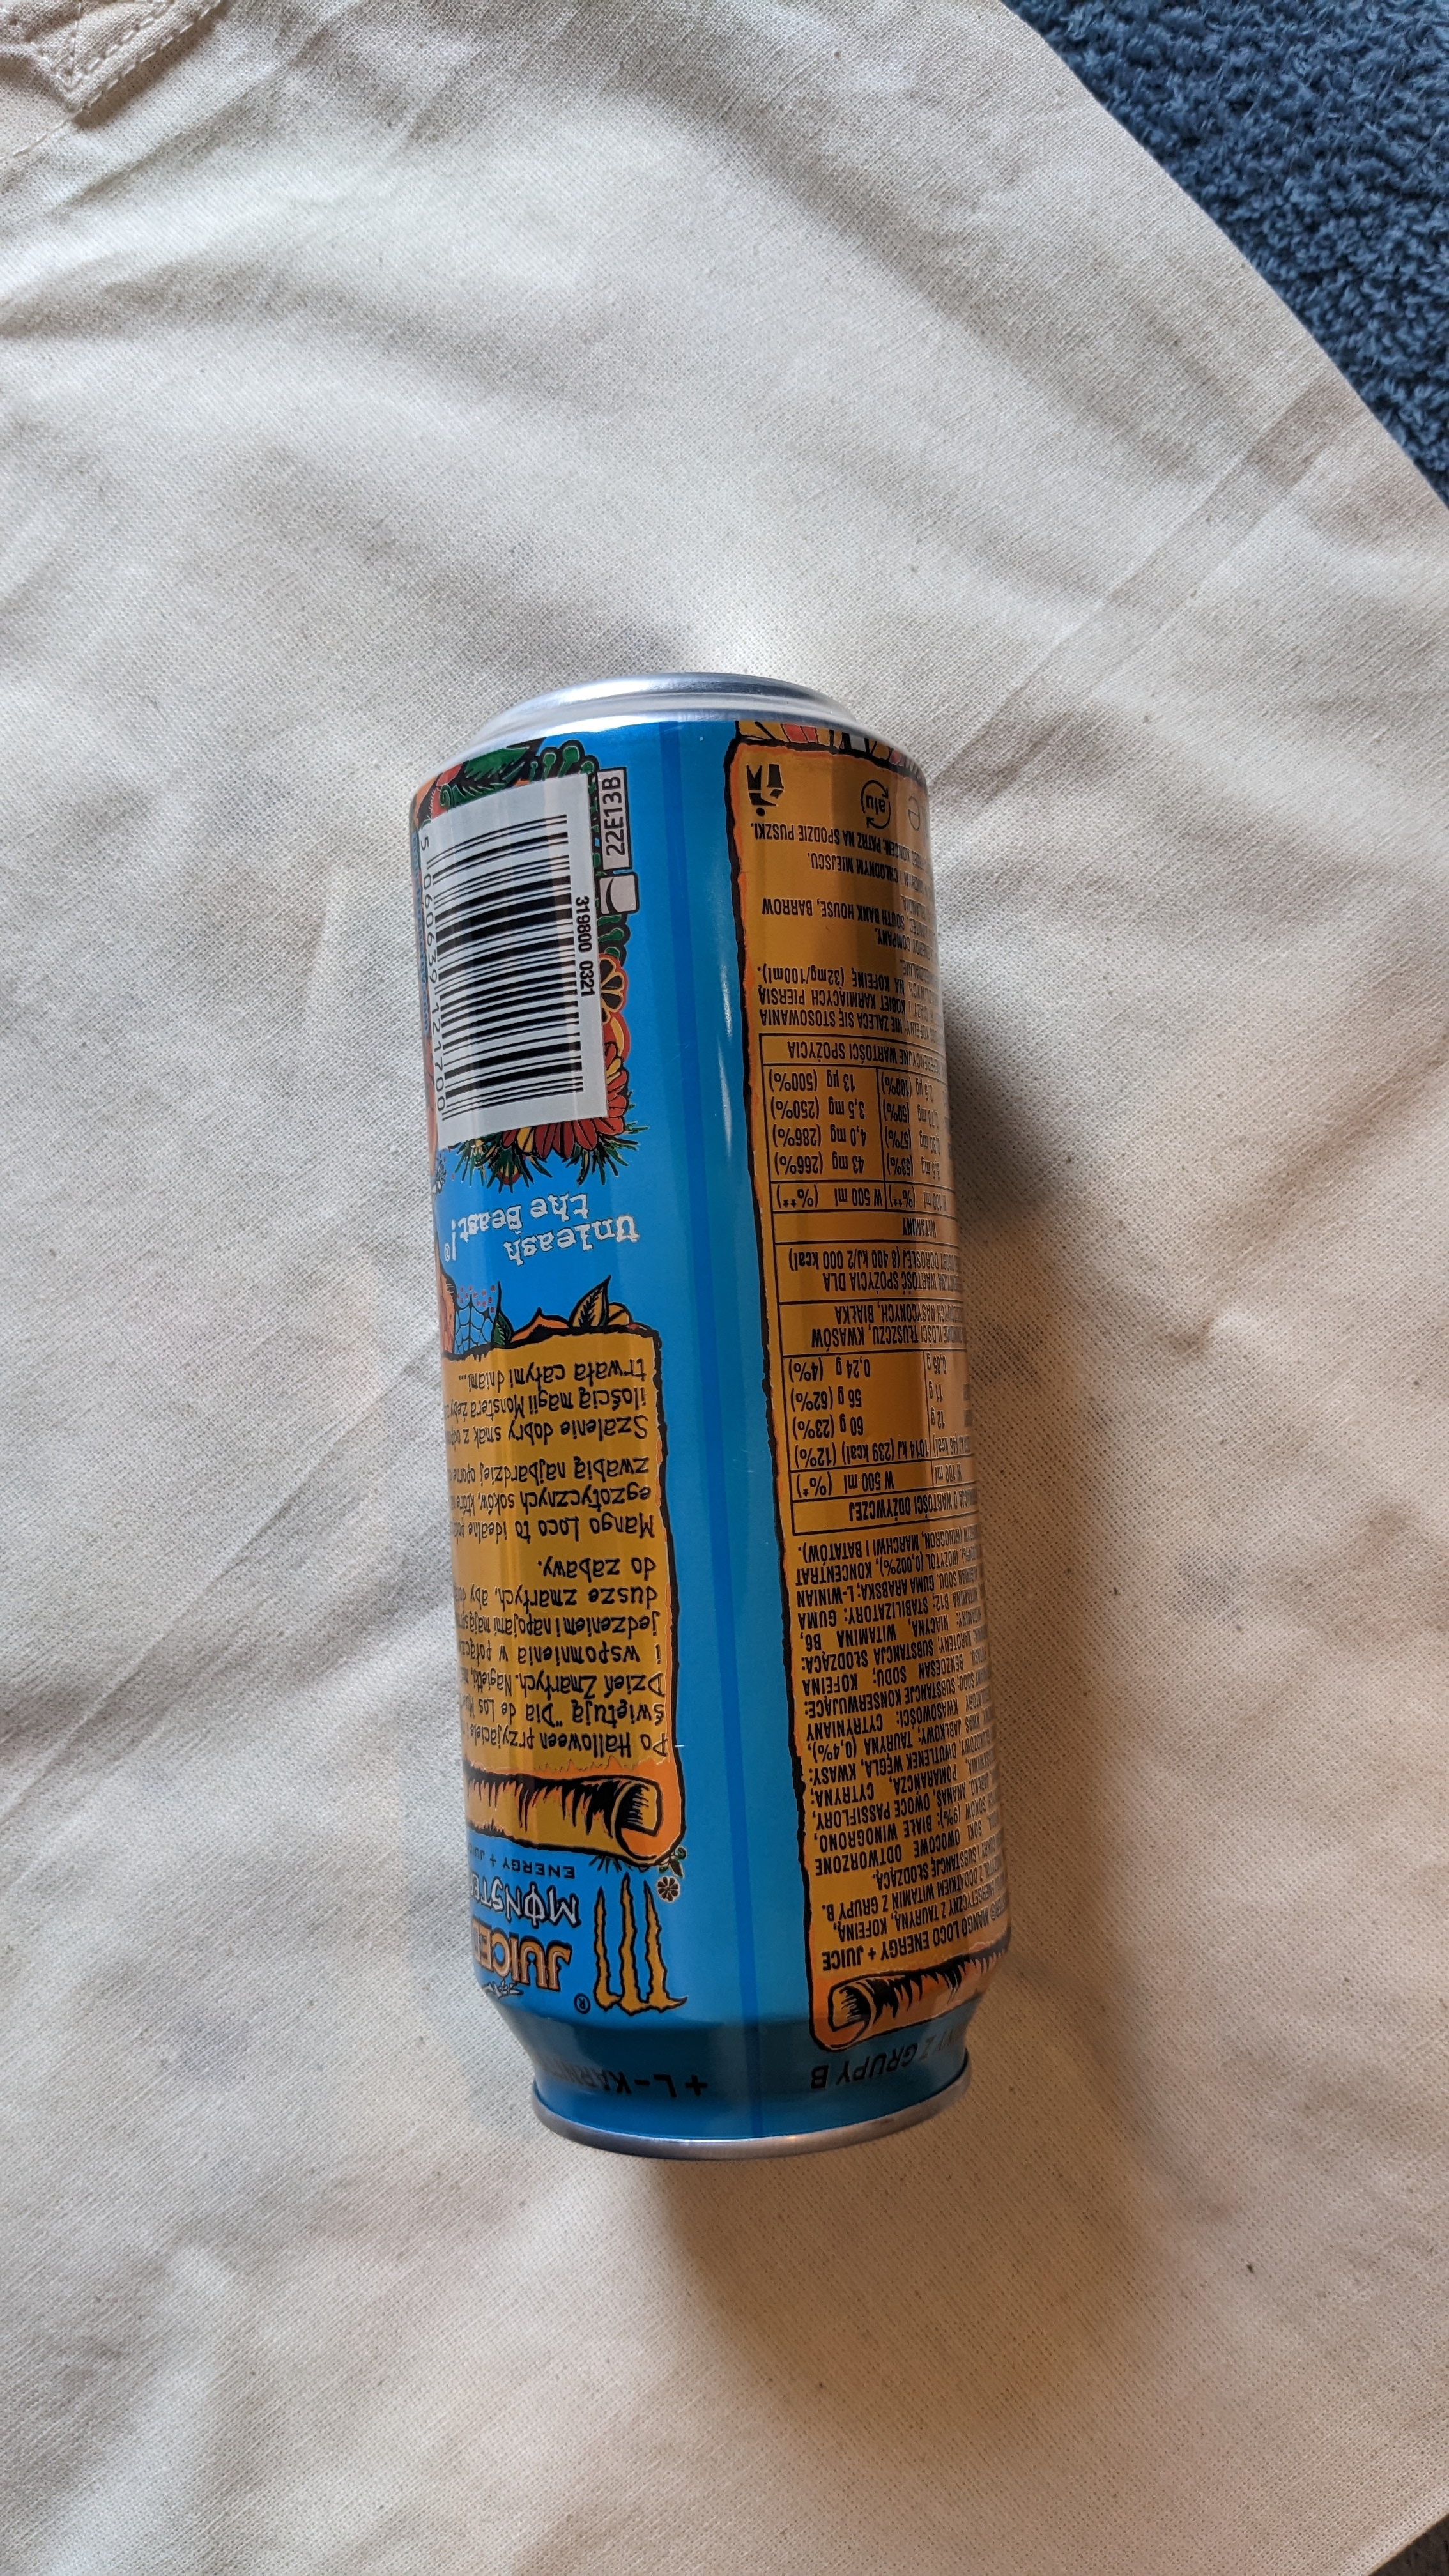monster: (377, 656, 1049, 2204)
